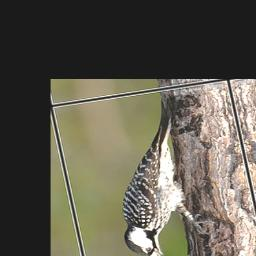Woodpecker: (95, 93, 221, 256)
